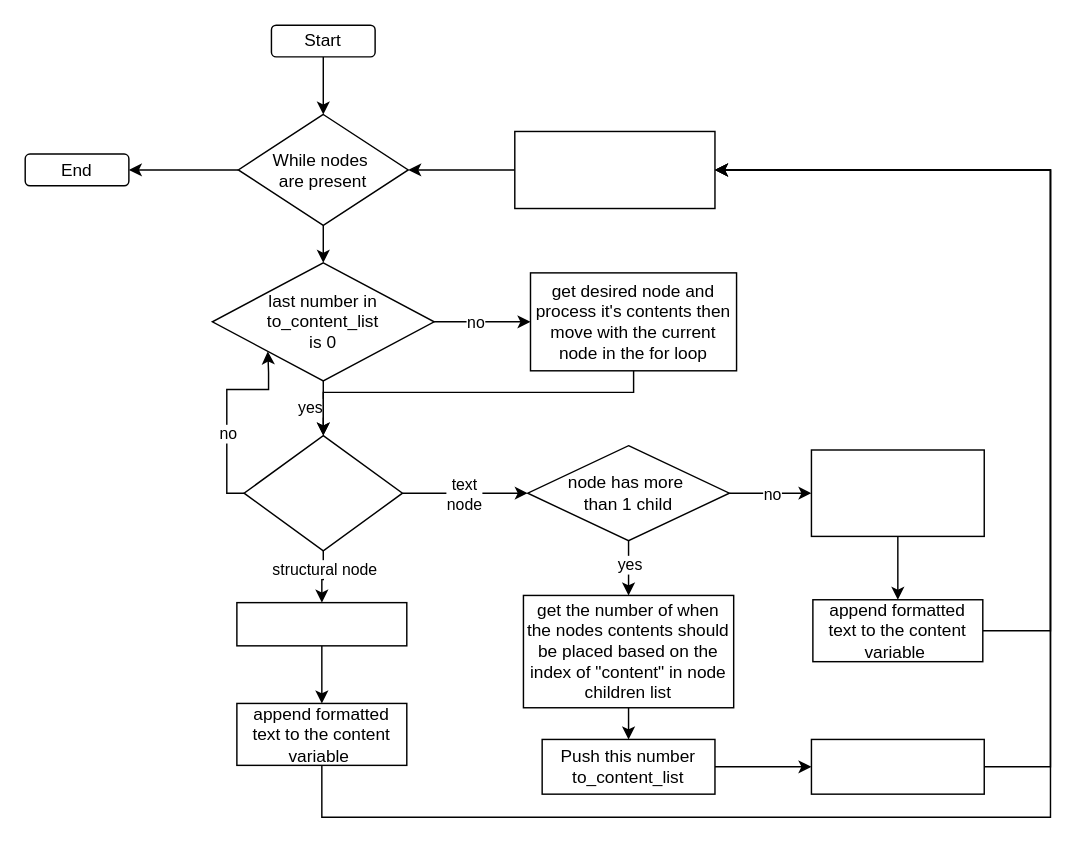
The diagram is 1087 pixels wide and 854 high, and some of its shapes have lost their labels. Here are the shapes that lost their labels. From the top down, the centre of each, then its label:
At (x=614, y=169): "reduce the last number in to_content_list by 1".
At (x=322, y=492): "Is node a structural or text node".
At (x=897, y=492): "Apply text formatting on node contents".
At (x=321, y=623): "Apply text formatting".
At (x=897, y=766): "keep pointer of that node in a list".
